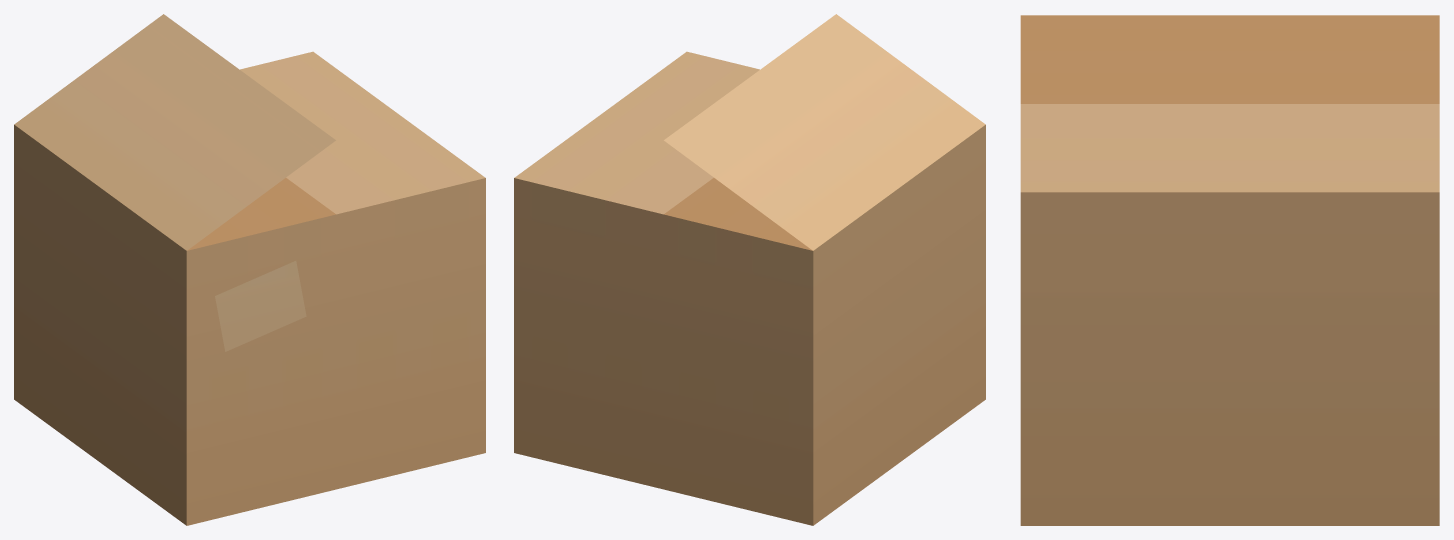
The model's file is box_b_free_model.glb.
3 views of the same model, side by side, from view 1: azimuth 30°, elevation 25°; view 2: azimuth 150°, elevation 25°; view 3: azimuth 270°, elevation 25° (orthographic). The views are drawn at different scales.
Visible parts, largest first — view 1: box_B; view 2: box_B; view 3: box_B.
Part boxes in pixels (box(x1,y1,x2,y2)): box_B: box(14, 14, 485, 525); box_B: box(514, 14, 985, 525); box_B: box(1020, 15, 1439, 525).
Size of the model in its own units: 0.1521 by 0.1696 by 0.1544.
Materials: 1 (1 with a texture image).
